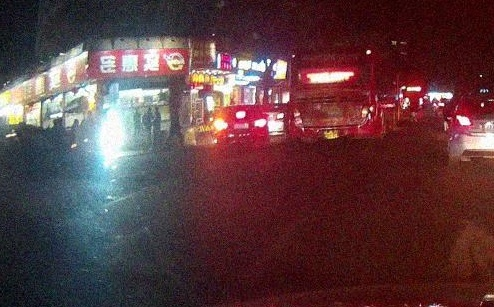L_light: (292, 97, 303, 128), (216, 123, 227, 129)
R_light: (366, 92, 376, 119)
T_light: (320, 80, 340, 85), (236, 113, 245, 117)
day-no: (254, 120, 266, 126)
night-brake: (215, 104, 268, 150)
night-no: (290, 45, 377, 146)
